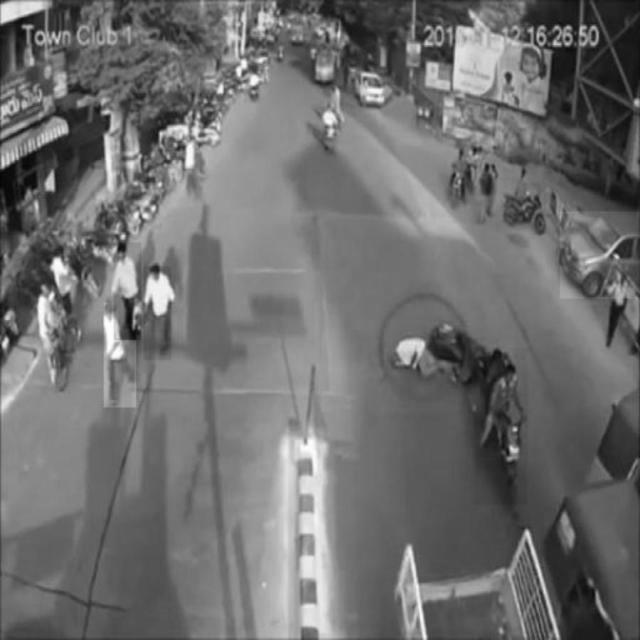person: (104, 302, 136, 408), (114, 243, 141, 341), (144, 267, 171, 360)
vehicle: (474, 348, 528, 505), (560, 212, 640, 300)
